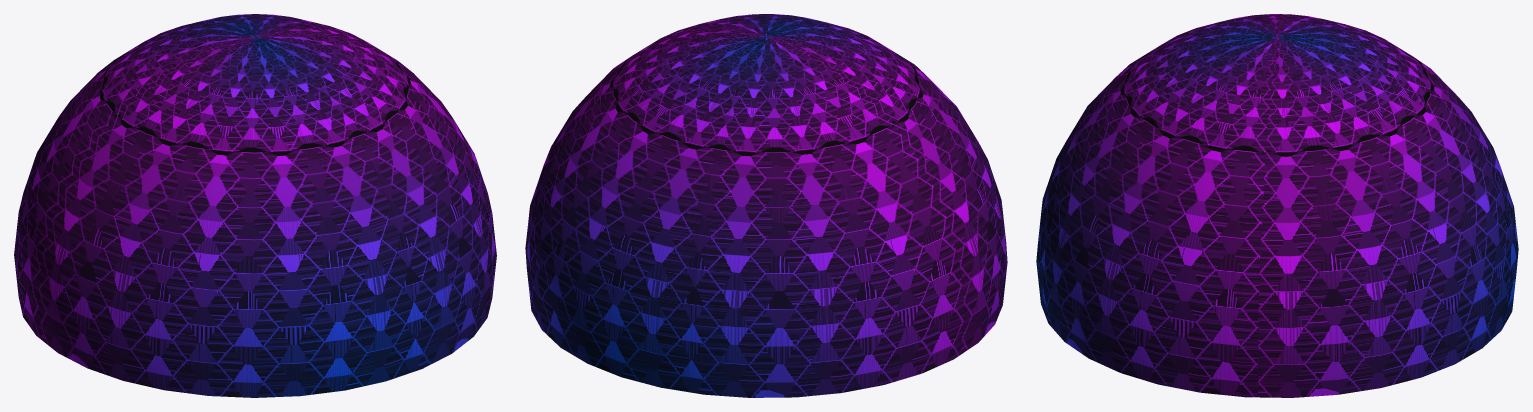
The model's file is AreaLimits.FBX.
3 views of the same model, side by side, from view 1: azimuth 30°, elevation 25°; view 2: azimuth 150°, elevation 25°; view 3: azimuth 270°, elevation 25° (orthographic).
Parts seen in each view (by area): view 1: Sphere001; view 2: Sphere001; view 3: Sphere001.
Boxes of the visible parts, x1,y1,x2,y2 form: Sphere001: (14,14,496,397); Sphere001: (525,14,1007,397); Sphere001: (1036,14,1518,397).
Size of the model in its own units: 127 by 76.08 by 127.
